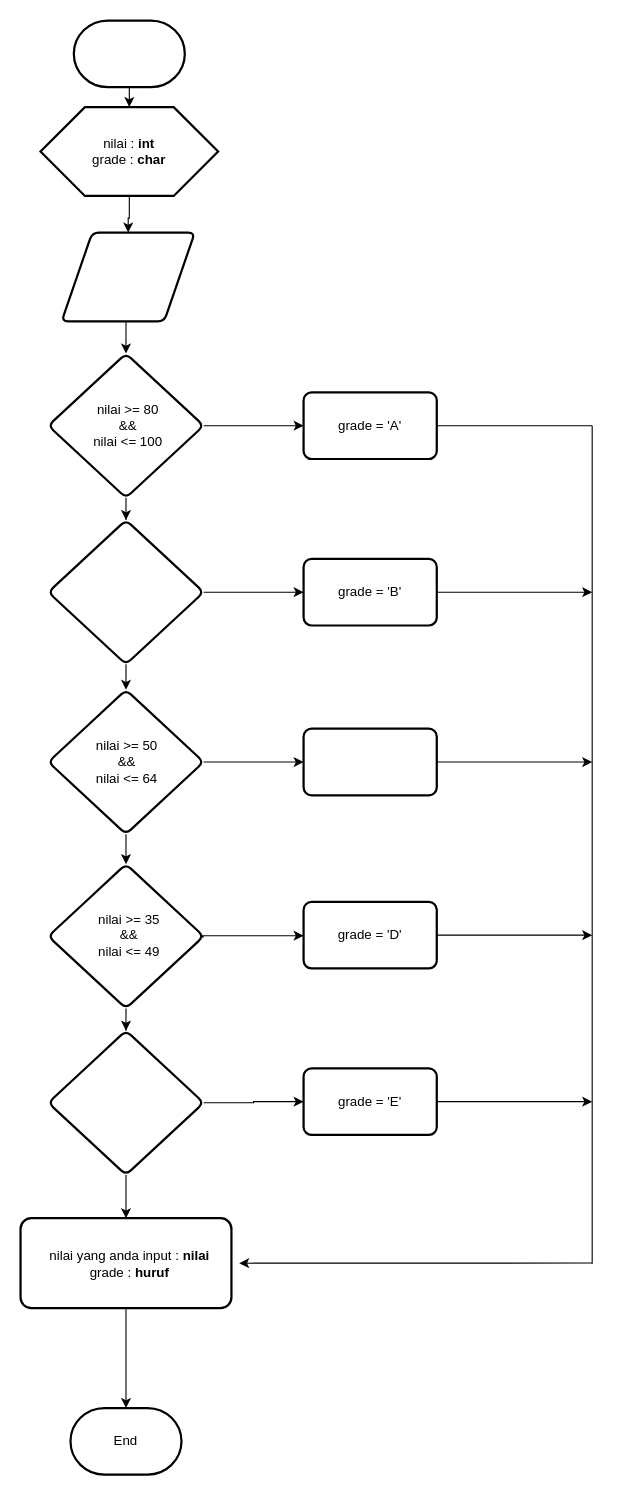
This 620x1494 diagram has some shape labels left out. Here are the shapes that lost their labels. From the top down, the box of each, then its label:
(72, 19, 185, 88): Start
(60, 231, 195, 322): Input nilai (cin >> nilai)
(47, 518, 204, 665): nilai >= 65 && nilai <= 79
(302, 727, 437, 796): grade = 'C'
(47, 1029, 204, 1175): nilai >= 0 && nilai <= 34
